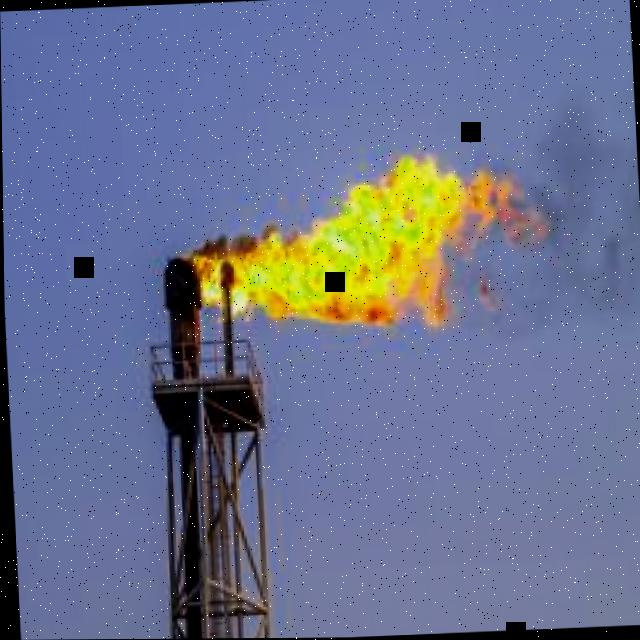fire: (178, 154, 521, 326)
smoke: (189, 232, 256, 260)
